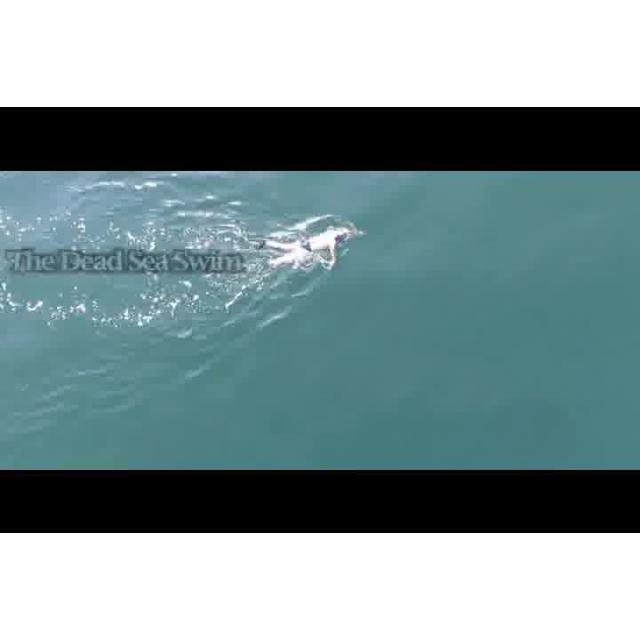human: (256, 224, 358, 270)
